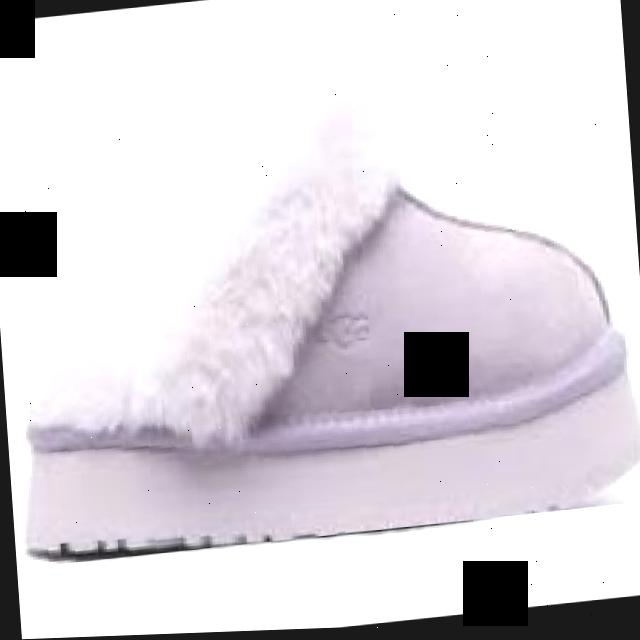shoe: (28, 78, 640, 555)
